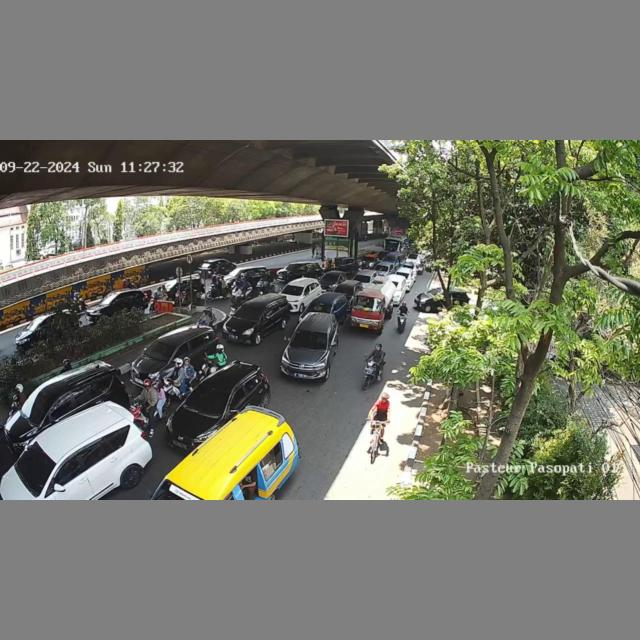windshield: (15, 443, 59, 489), (184, 384, 228, 418), (22, 391, 60, 421), (285, 328, 329, 353), (145, 339, 174, 360), (230, 304, 259, 321), (353, 295, 383, 311), (307, 301, 331, 315), (282, 285, 304, 296), (335, 285, 355, 295), (353, 274, 371, 283), (321, 274, 339, 282), (375, 265, 389, 272)
